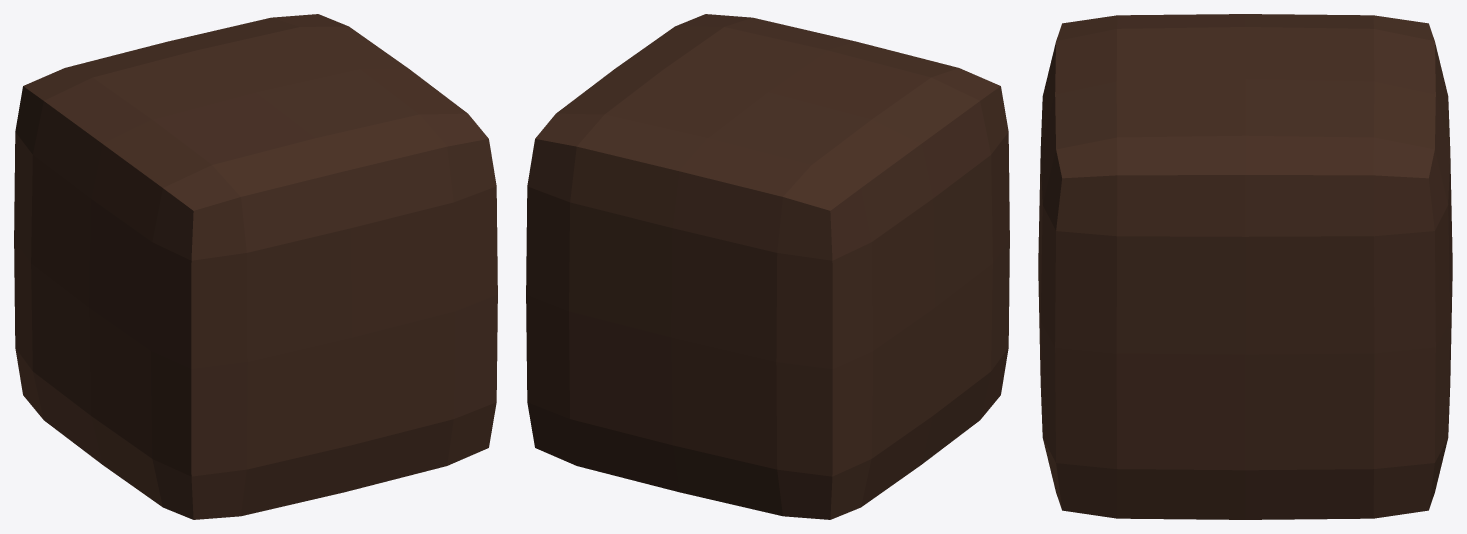
The picture shows the model from 3 angles, left to right: view 1: azimuth 30°, elevation 25°; view 2: azimuth 150°, elevation 25°; view 3: azimuth 270°, elevation 25°; orthographic projection. The views are drawn at different scales.
Visible parts, largest first — view 1: Cube; view 2: Cube; view 3: Cube.
Part boxes in pixels (x1,y1,x2,y2): Cube: (14,14,497,519); Cube: (526,14,1009,519); Cube: (1038,14,1452,519).
Bounding box in the file's own units: 595 × 595 × 595.
